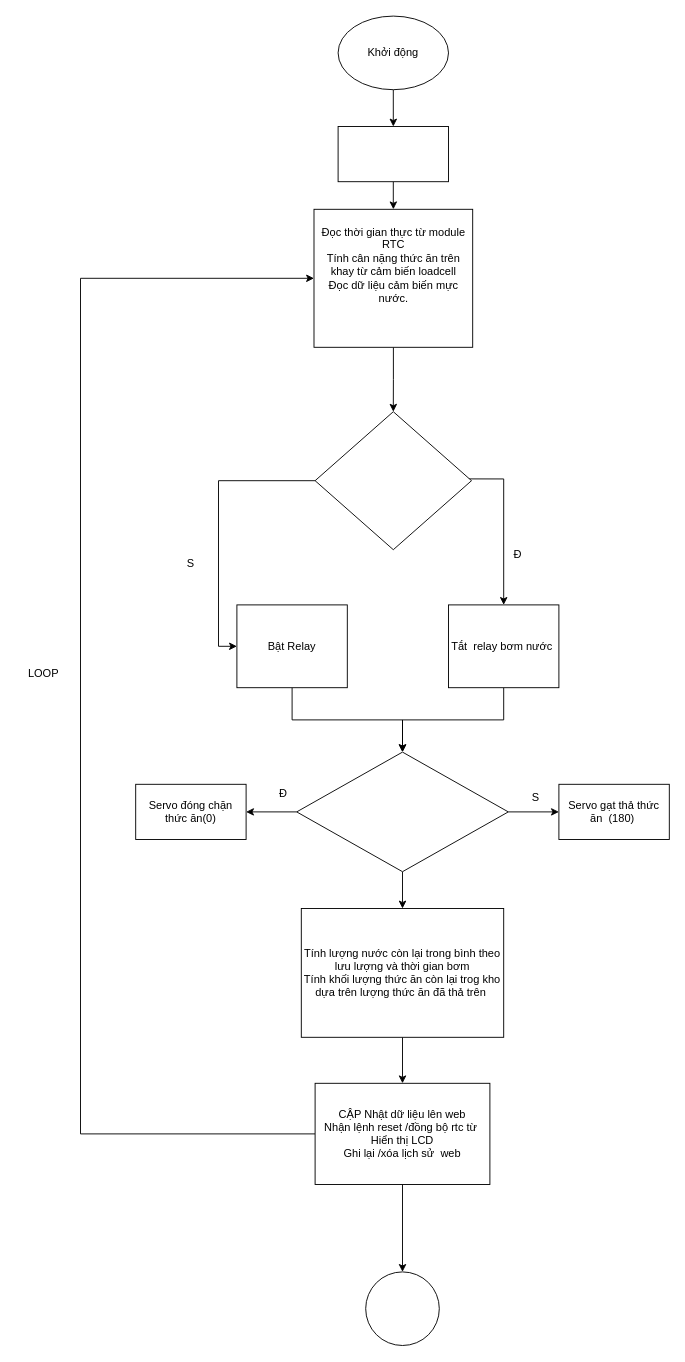
Image size: 685x1362. Some labels were removed from this diagram. Each missing label, with the centre of its shape:
"Kết nối wifi" goes at (392,154).
"kẾT THÚC" goes at (402,1308).
"Mực nước cao hơn ngưỡng hoặc bình hết nước ?" goes at (393,480).
"thức ăn trên khay nặng hơn ngưỡng ?" goes at (402,811).
